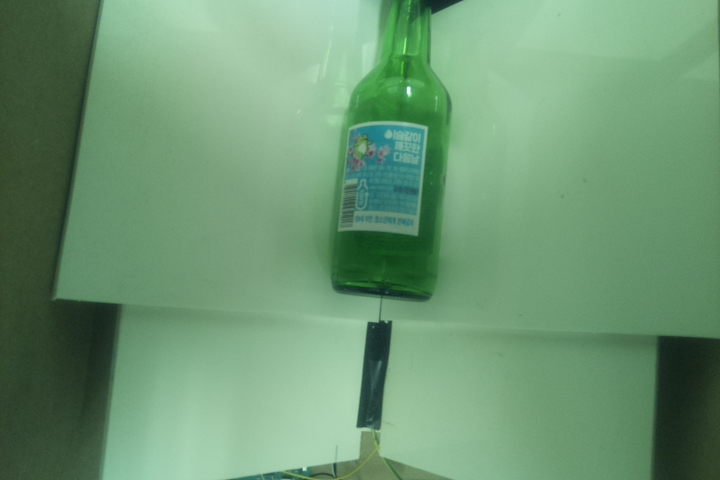soju: (327, 1, 453, 305)
